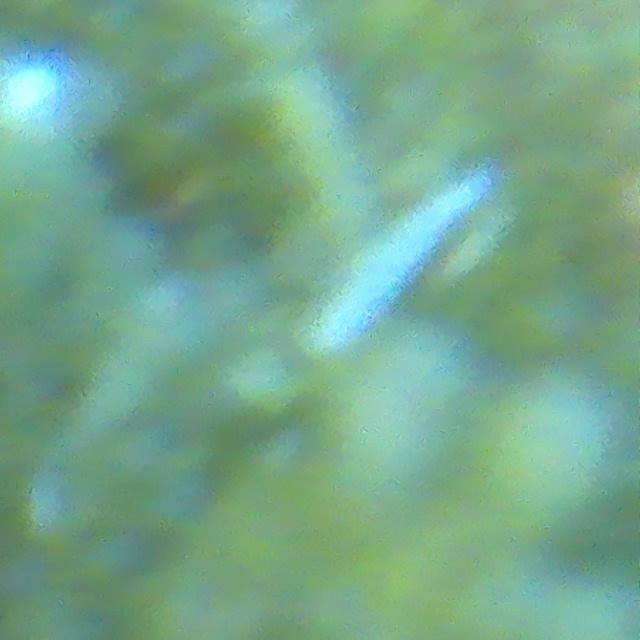SeaGrape: (478, 393, 610, 524), (332, 385, 455, 513), (10, 464, 99, 555), (215, 341, 304, 427)
